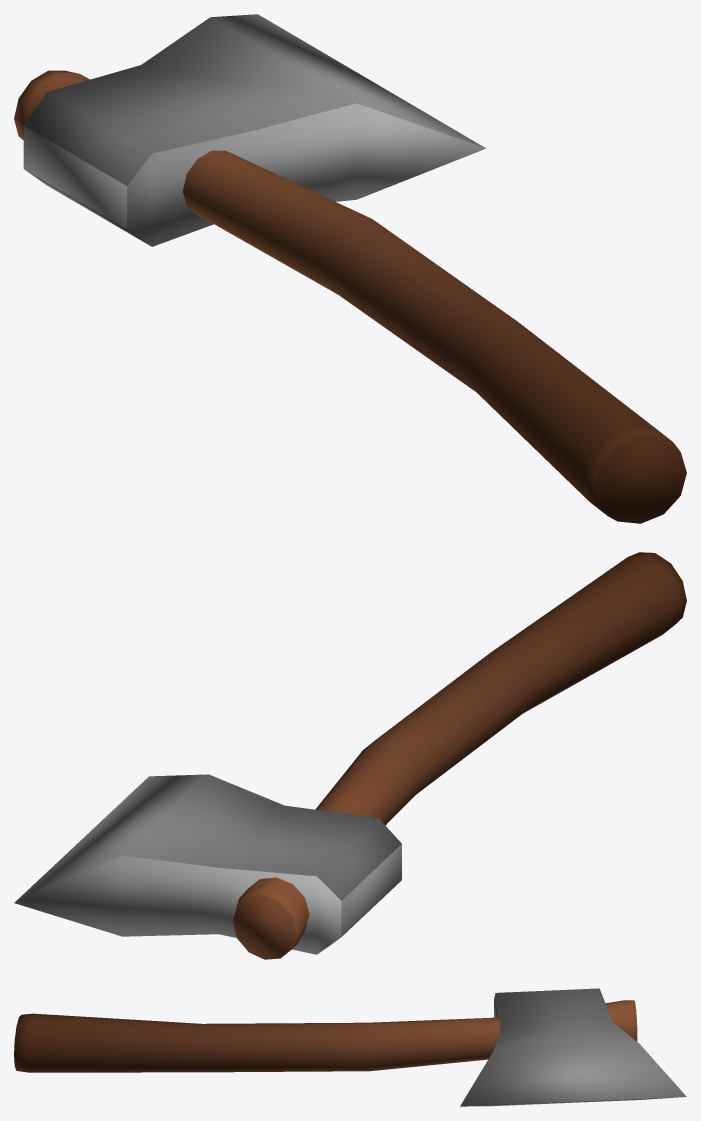
Rendered from axe.obj.
3 renders of one model, top to bottom at view 1: azimuth 30°, elevation 25°; view 2: azimuth 150°, elevation 25°; view 3: azimuth 270°, elevation 25°, orthographic. The views are drawn at different scales.
Visible parts, largest first — view 1: axe; view 2: axe; view 3: axe.
Boxes of the visible parts, bbox=[...] form: axe: bbox=[14, 14, 686, 523]; axe: bbox=[14, 552, 686, 959]; axe: bbox=[14, 988, 686, 1106].
Size of the model in its own units: 0.3567 by 0.0952 by 1.03.
